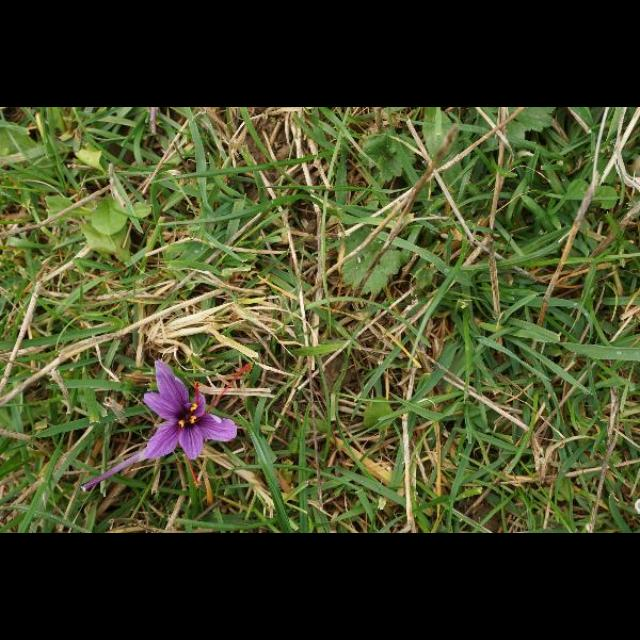flower: (142, 360, 254, 486)
